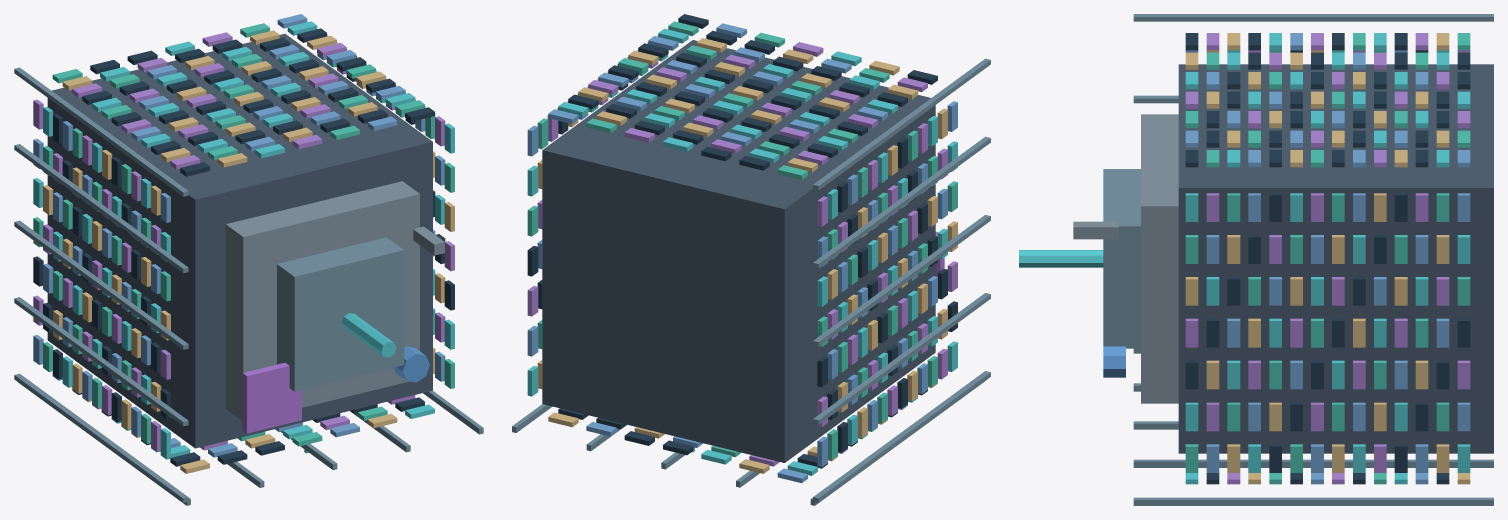
The model's file is spire.glb.
3 views of the same model, side by side, from view 1: azimuth 30°, elevation 25°; view 2: azimuth 150°, elevation 25°; view 3: azimuth 270°, elevation 25° (orthographic). The views are drawn at different scales.
Visible parts, largest first — view 1: geometry_0; view 2: geometry_0; view 3: geometry_0.
Boxes of the visible parts, x1,y1,x2,y2 form: geometry_0: (14,14,483,505); geometry_0: (512,14,990,505); geometry_0: (1019,14,1493,505).
Size of the model in its own units: 0.986 by 0.996 by 1.26.
